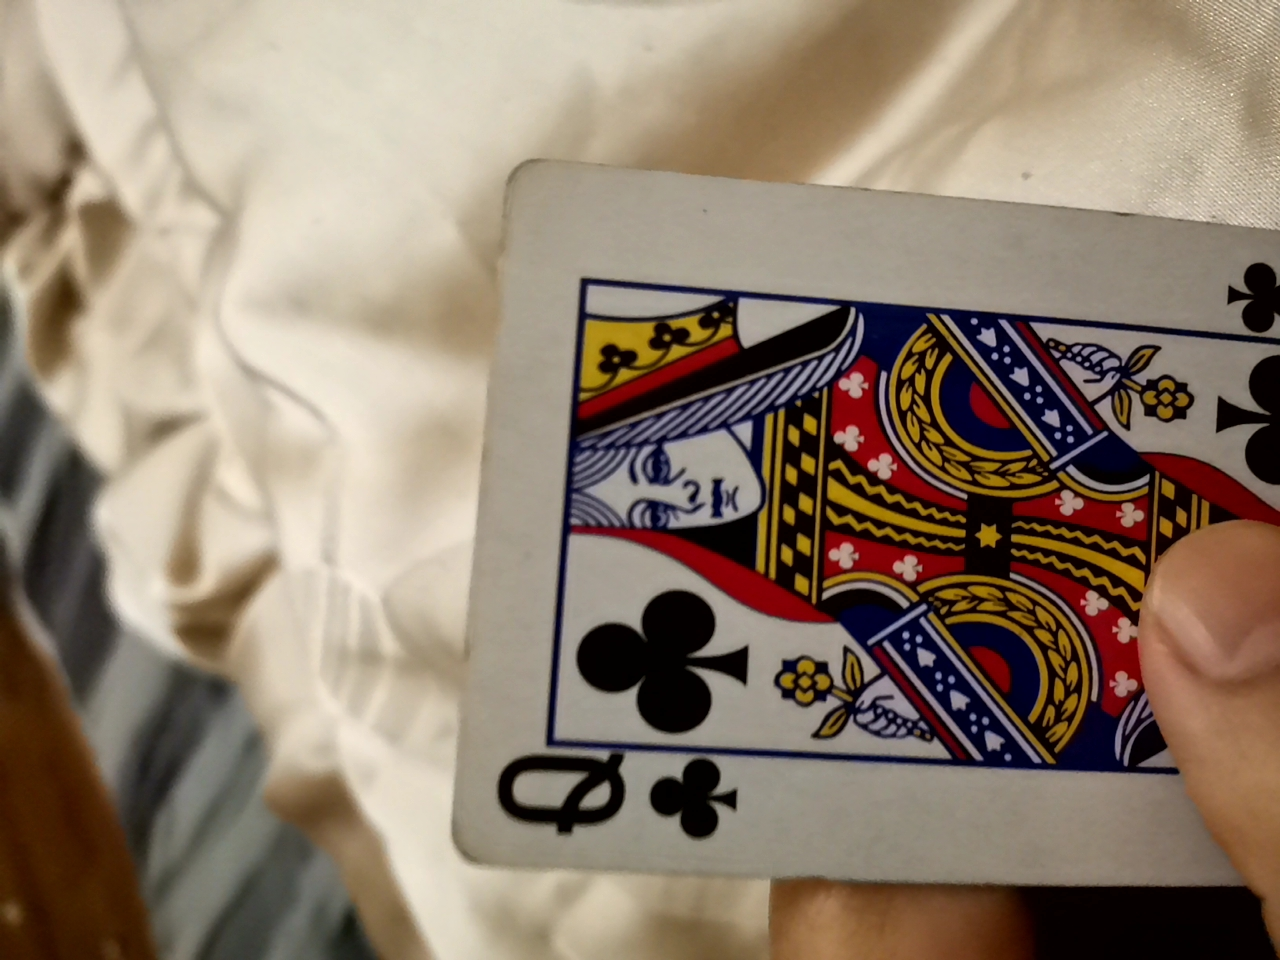mh q: (438, 167, 1259, 925)
